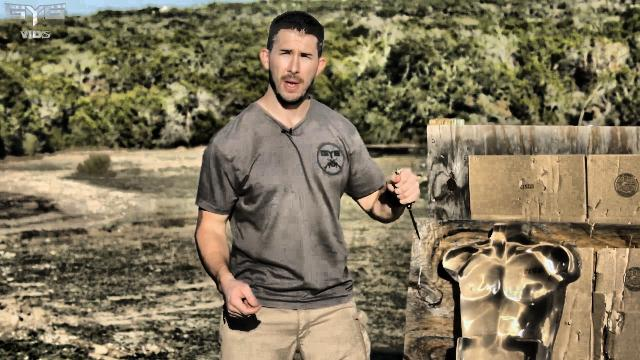knife: (389, 164, 423, 248)
